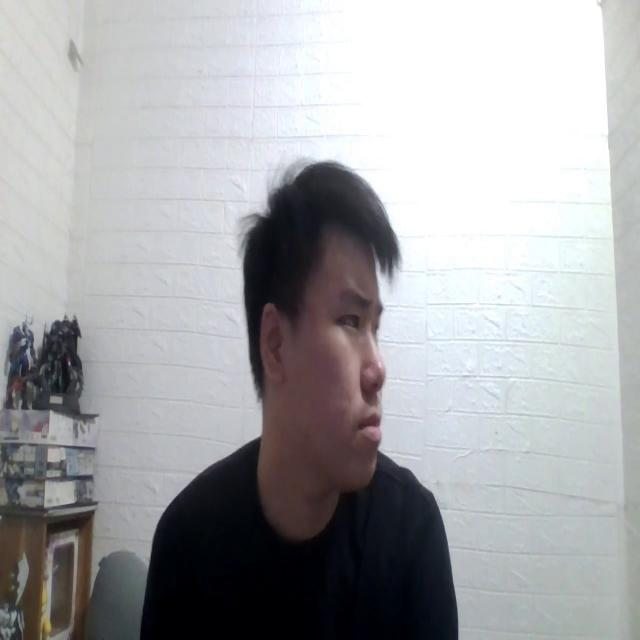student: (142, 148, 458, 640)
